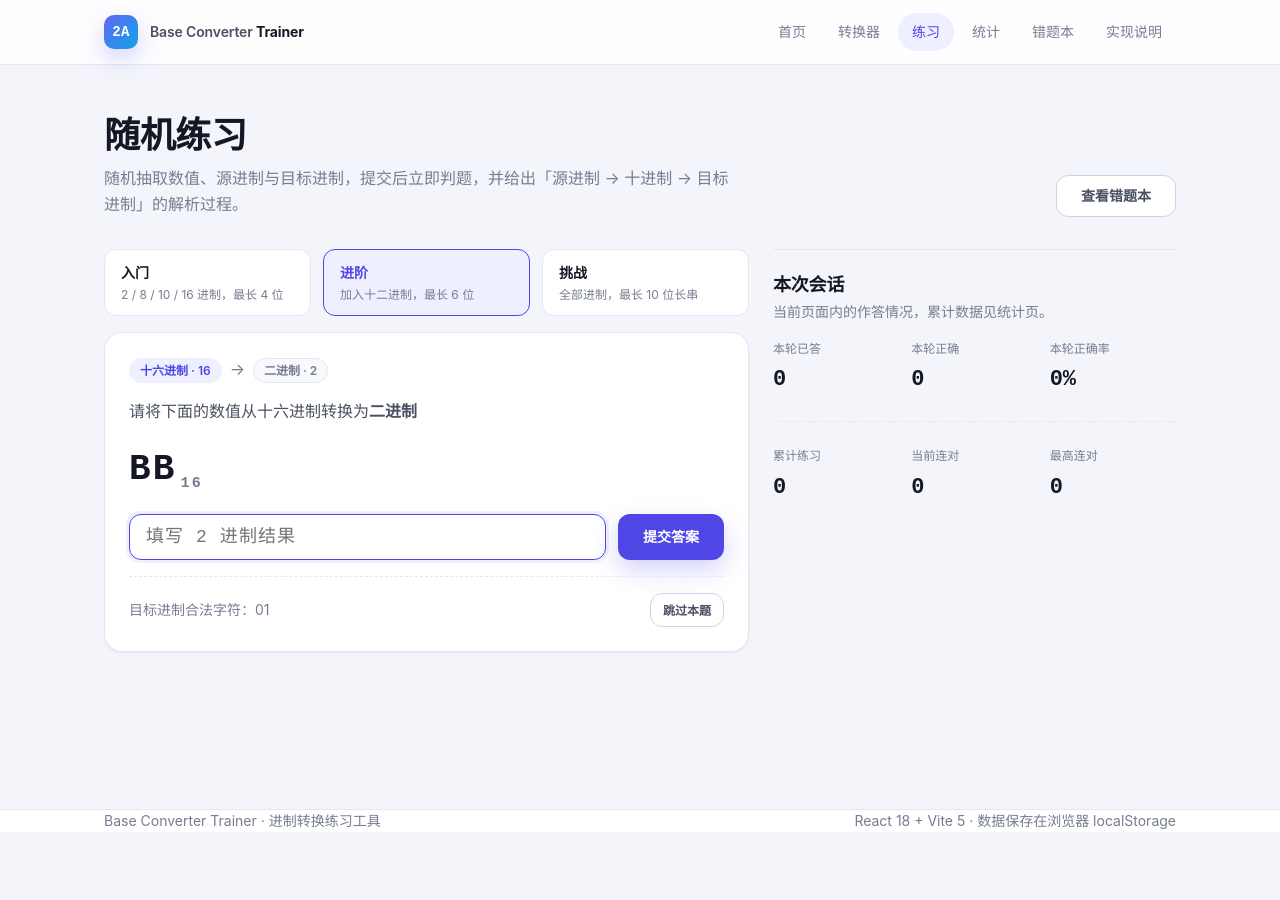
Scenario: 错题本 · 与练习页联动 › 在练习页答错后，错题本里能找到这条记录
In the field named "答案输入框": [367, 537] box [129,514,606,560], type "0"
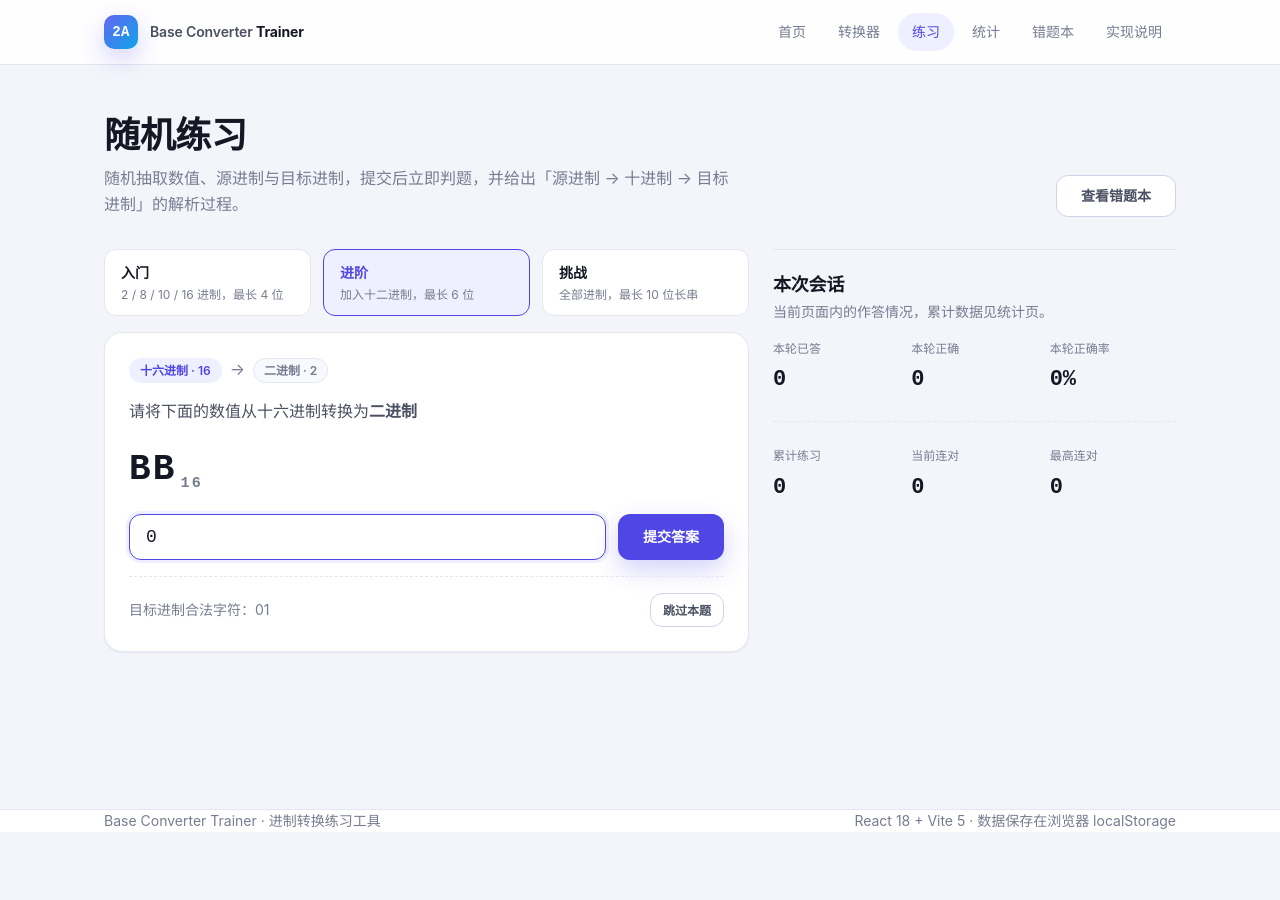
Click the button "提交答案": [671, 537] box [618,514,724,560]
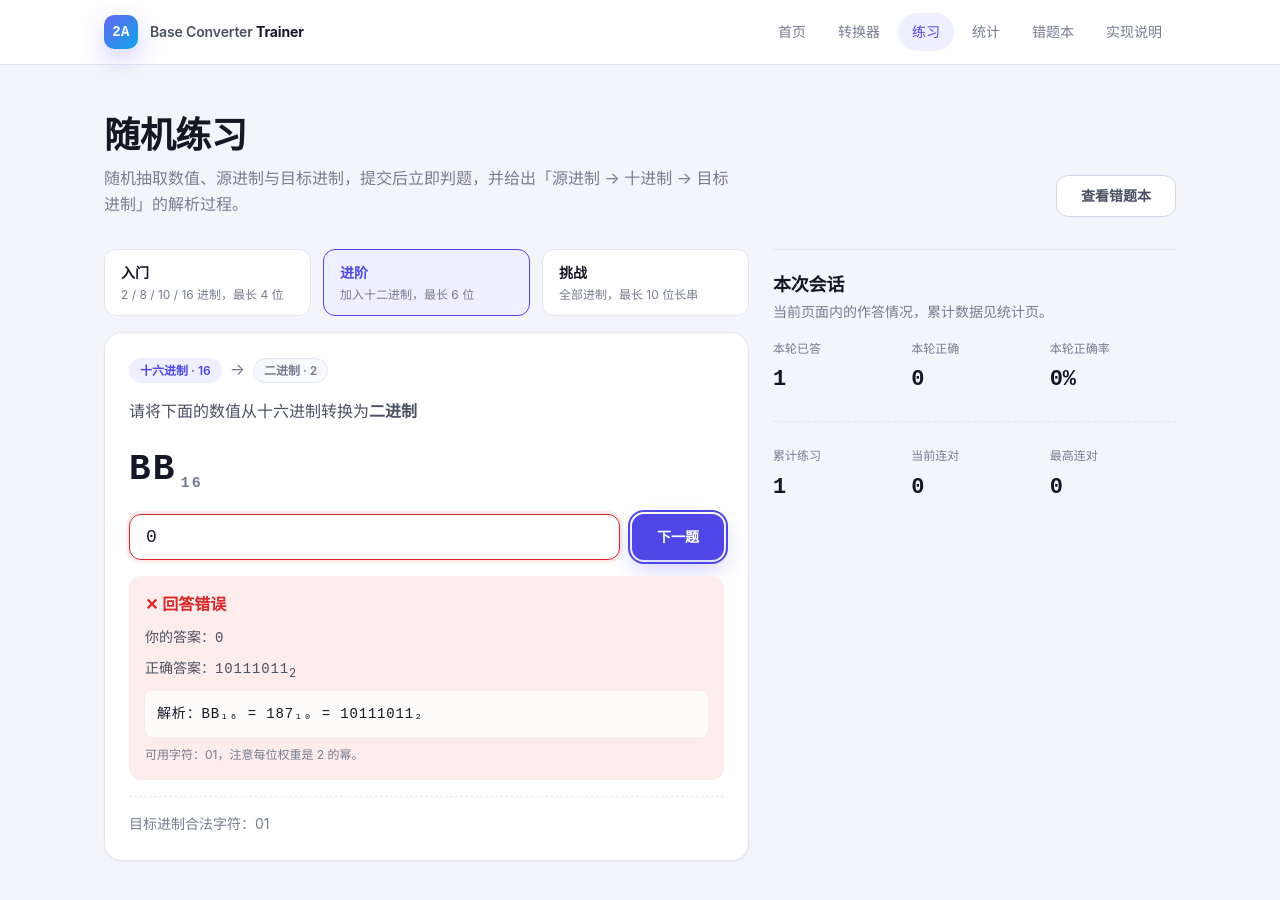
Check: the text "✕ 回答错误" is shown, box [145,594,226,614]
Note: 通过真实导航进入错题本，验证跨页面的数据一致性
Click the link "错题本": [1053, 31] box [1032,23,1074,40]
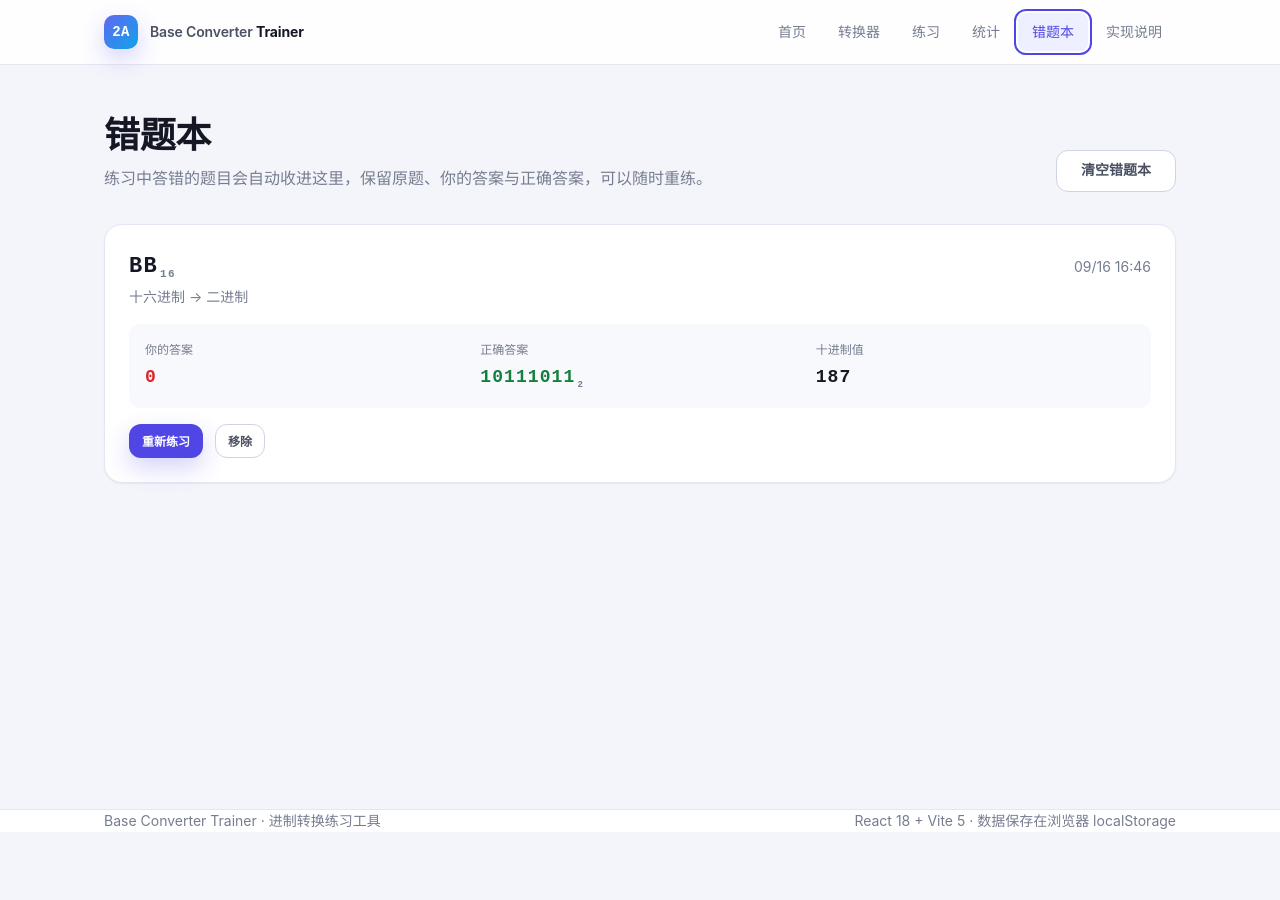
Check: the text with class "mistake-item__wrong" reads "0", box [145,367,157,387]
Check: the heading "错题本" is shown, box [104,113,211,157]
Check: the number of list items with class "mistake-item" is 1, box [104,224,1176,483]
